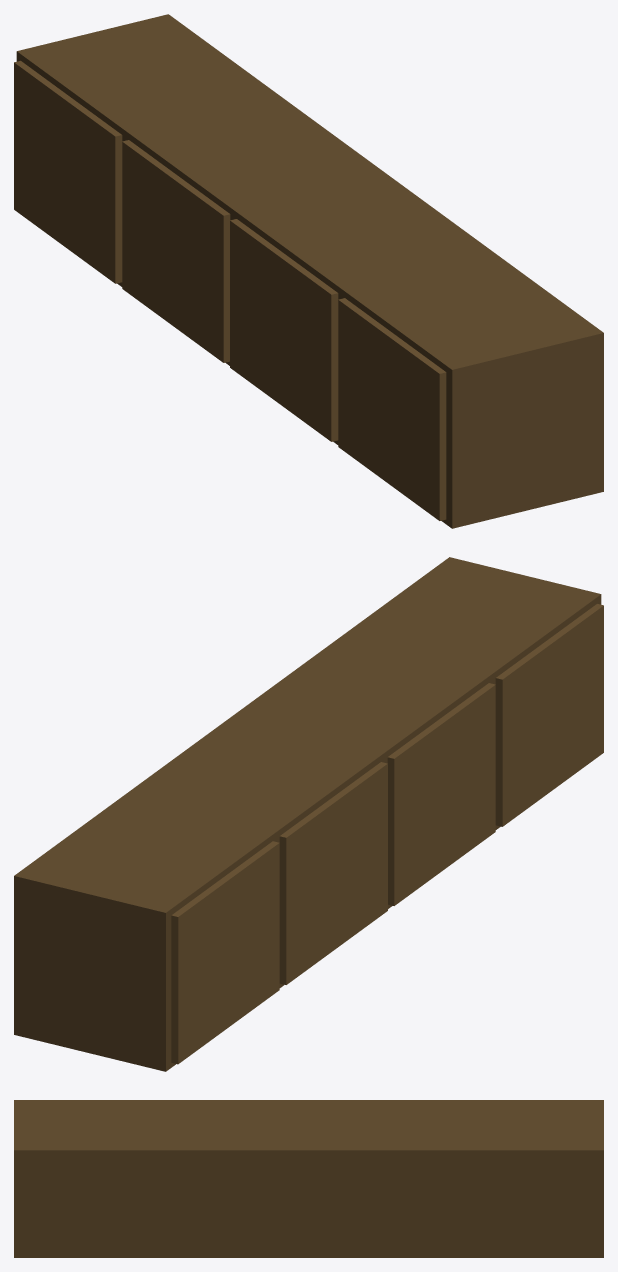
The model's file is another kast ding.fbx.
3 renders of one model, top to bottom at view 1: azimuth 30°, elevation 25°; view 2: azimuth 150°, elevation 25°; view 3: azimuth 270°, elevation 25°, orthographic. The views are drawn at different scales.
Visible parts, largest first — view 1: Cube.087, Cube.088, Cube.090, Cube.091, Cube.089; view 2: Cube.087, Cube.088, Cube.089, Cube.090, Cube.091; view 3: Cube.087.
Boxes of the visible parts, x1=… form: Cube.087: x1=16, y1=14, x2=603, y2=528; Cube.088: x1=14, y1=60, x2=122, y2=283; Cube.090: x1=338, y1=298, x2=446, y2=520; Cube.091: x1=230, y1=219, x2=338, y2=441; Cube.089: x1=122, y1=140, x2=230, y2=362; Cube.087: x1=14, y1=557, x2=601, y2=1071; Cube.088: x1=171, y1=841, x2=279, y2=1064; Cube.089: x1=279, y1=762, x2=387, y2=984; Cube.090: x1=495, y1=604, x2=603, y2=826; Cube.091: x1=387, y1=683, x2=495, y2=905; Cube.087: x1=14, y1=1100, x2=603, y2=1257.
Size of the model in its own units: 210 by 200 by 993.
